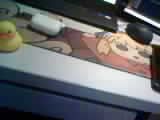duck: (6, 16, 26, 51)
